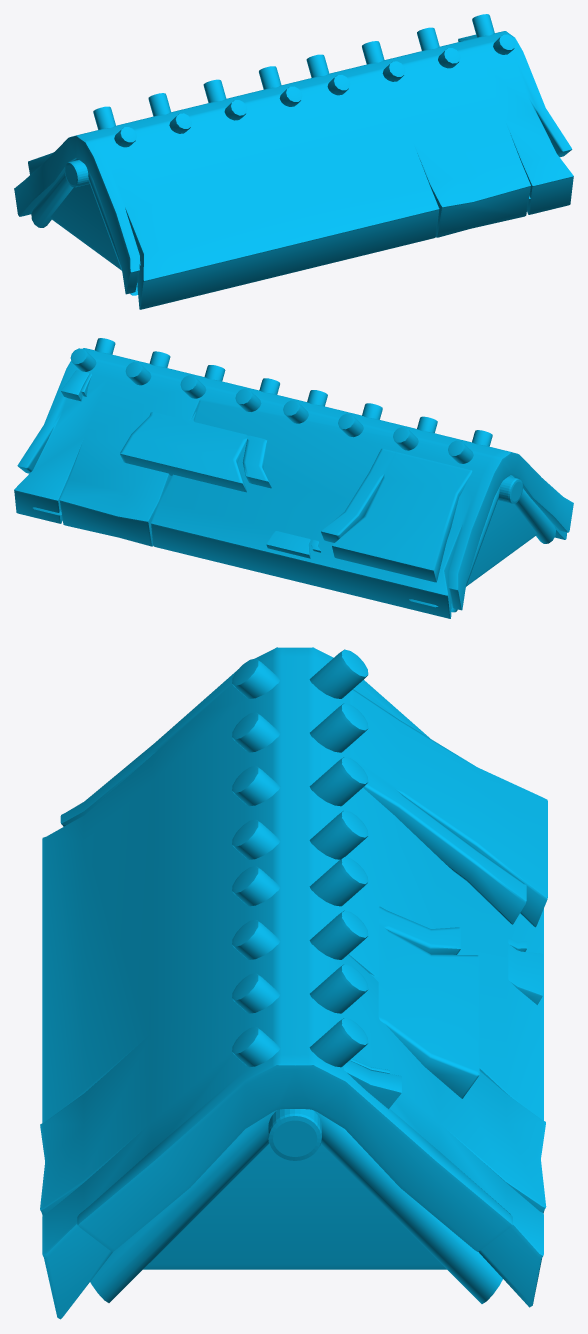
The model's file is SM_Clay_Roof_07.fbx.
3 renders of one model, top to bottom at view 1: azimuth 30°, elevation 25°; view 2: azimuth 150°, elevation 25°; view 3: azimuth 270°, elevation 25°, orthographic. The views are drawn at different scales.
Parts seen in each view (by area): view 1: SM_Clay_Roof_07; view 2: SM_Clay_Roof_07; view 3: SM_Clay_Roof_07.
Boxes of the visible parts, x1=… form: SM_Clay_Roof_07: x1=14, y1=14, x2=573, y2=309; SM_Clay_Roof_07: x1=14, y1=338, x2=573, y2=618; SM_Clay_Roof_07: x1=40, y1=647, x2=547, y2=1319.
Bounding box in the file's own units: 2.09 × 0.6438 × 1.03.
